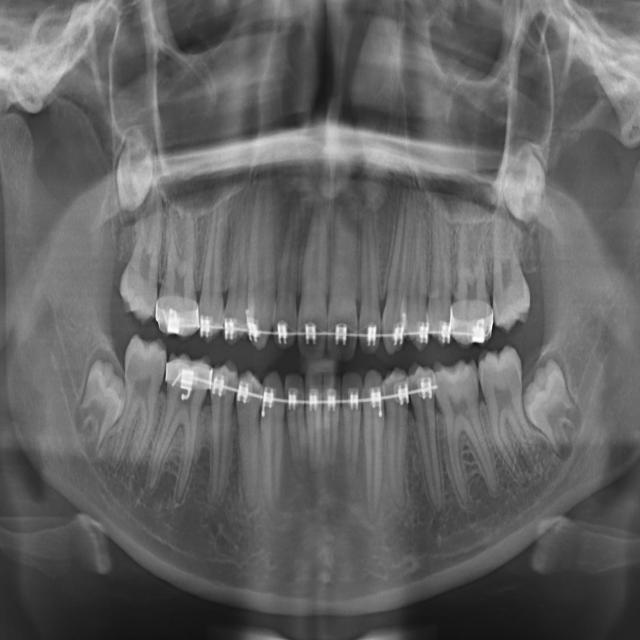3M ESPE Implant: (112, 127, 156, 213)
AGS Medikal Implant: (355, 204, 382, 356)
AMerOss Implant: (380, 171, 413, 357)
Amalgam filling: (406, 188, 432, 350)
Anthogyr Implant: (425, 191, 454, 346)
Bicon Implant: (449, 208, 494, 349)
BioHorizons Implant: (491, 197, 532, 334)
BioLife Implant: (499, 141, 548, 224)
Biomet 3i Implant: (509, 355, 597, 469)
Blue Sky Bio Implant: (472, 340, 548, 492)
Camlog Implant: (429, 353, 501, 511)
Caries: (115, 154, 168, 327)
Composite filling: (406, 359, 448, 515)
Cowellmedi Implant: (383, 365, 414, 521)
Crown: (360, 368, 385, 519)
DENTSPLY Implant: (338, 370, 363, 485)
Dentatus Implant: (322, 368, 341, 469)
Dentis Implant: (304, 368, 322, 476)
Dentium Implant: (283, 370, 308, 486)
Euroteknika Implant: (260, 369, 284, 528)
Filling: (234, 369, 261, 507)
Frontier Implant: (198, 357, 239, 512)
Hiossen Implant: (155, 197, 202, 339)
Implant: (108, 331, 170, 482)
Implant Direct: (144, 348, 214, 504)
Keystone Dental Implant: (61, 357, 134, 461)
MIS Implant: (197, 188, 231, 346)
Mandible: (223, 187, 251, 348)
Maxilla: (247, 163, 278, 350)
Megagen Implant: (272, 187, 302, 351)
Neodent Implant: (297, 186, 330, 360)
Neoss Implant: (326, 185, 361, 365)
